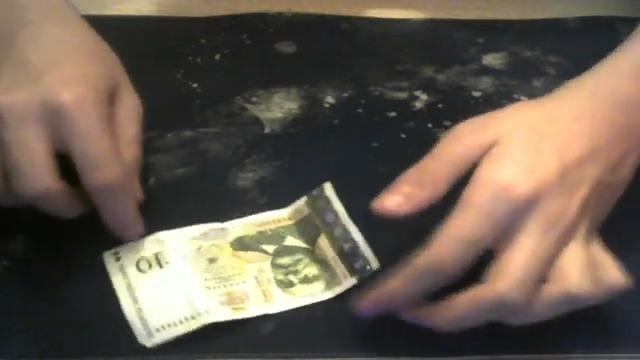10leva: (232, 210, 334, 298), (122, 249, 174, 285)
